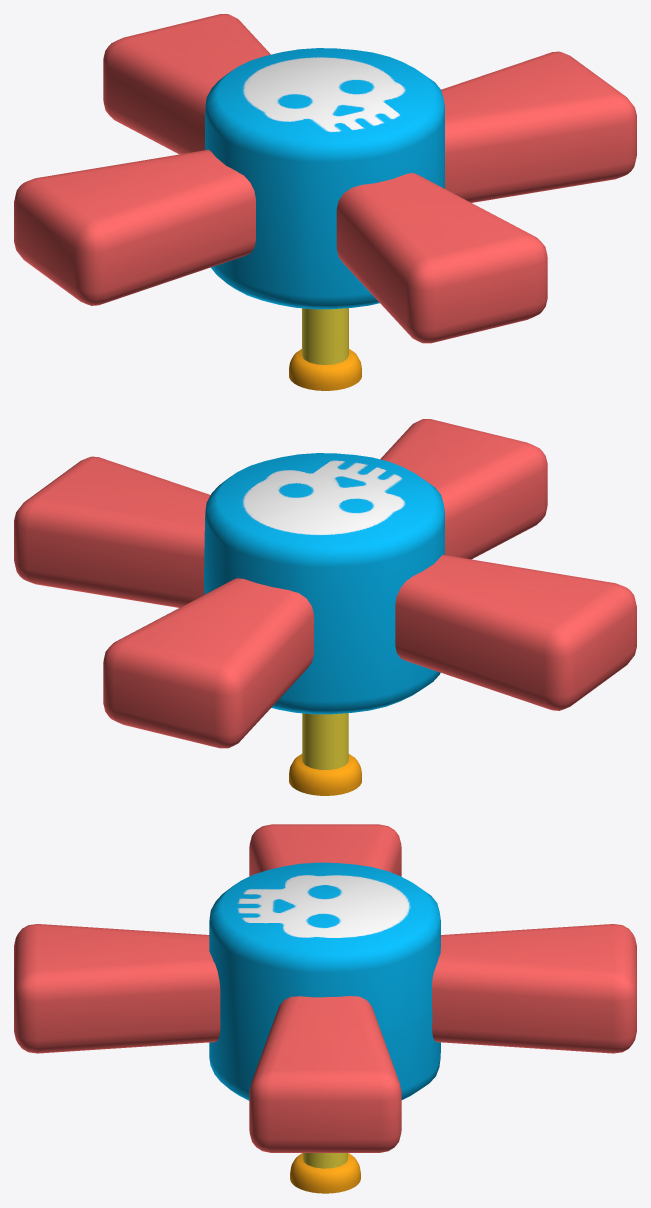
Rendered from rotate_small_vertical_4.FBX.
3 views of the same model, one above another, from view 1: azimuth 30°, elevation 25°; view 2: azimuth 150°, elevation 25°; view 3: azimuth 270°, elevation 25° (orthographic). The views are drawn at different scales.
Visible parts, largest first — view 1: rotate_small_vertical_4; view 2: rotate_small_vertical_4; view 3: rotate_small_vertical_4.
Boxes of the visible parts, x1,y1,x2,y2 form: rotate_small_vertical_4: (14,14,636,390); rotate_small_vertical_4: (14,419,636,795); rotate_small_vertical_4: (14,824,636,1193).
Size of the model in its own units: 4 by 1.93 by 4.
Materials: 1 (1 with a texture image).
